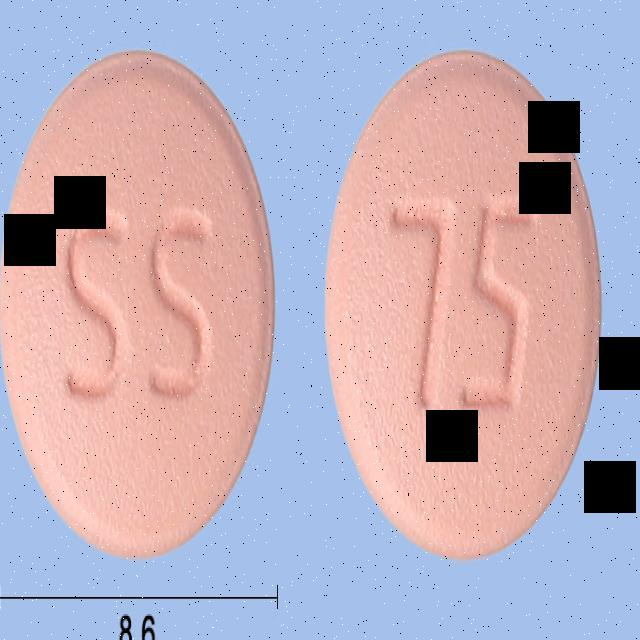Clozex: (323, 45, 602, 560), (0, 45, 273, 557)
